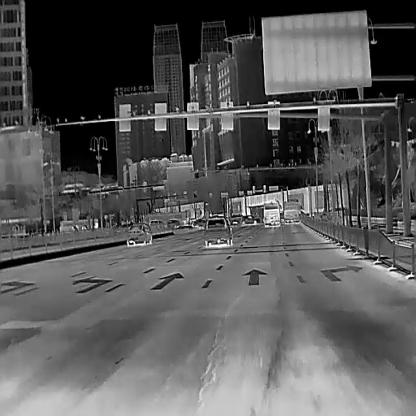bus: (142, 210, 190, 224), (59, 216, 98, 232), (262, 200, 282, 226), (282, 198, 300, 223)
car: (203, 216, 233, 246), (126, 222, 152, 244), (240, 214, 260, 224), (148, 218, 166, 228), (164, 218, 180, 228), (190, 217, 206, 227)
